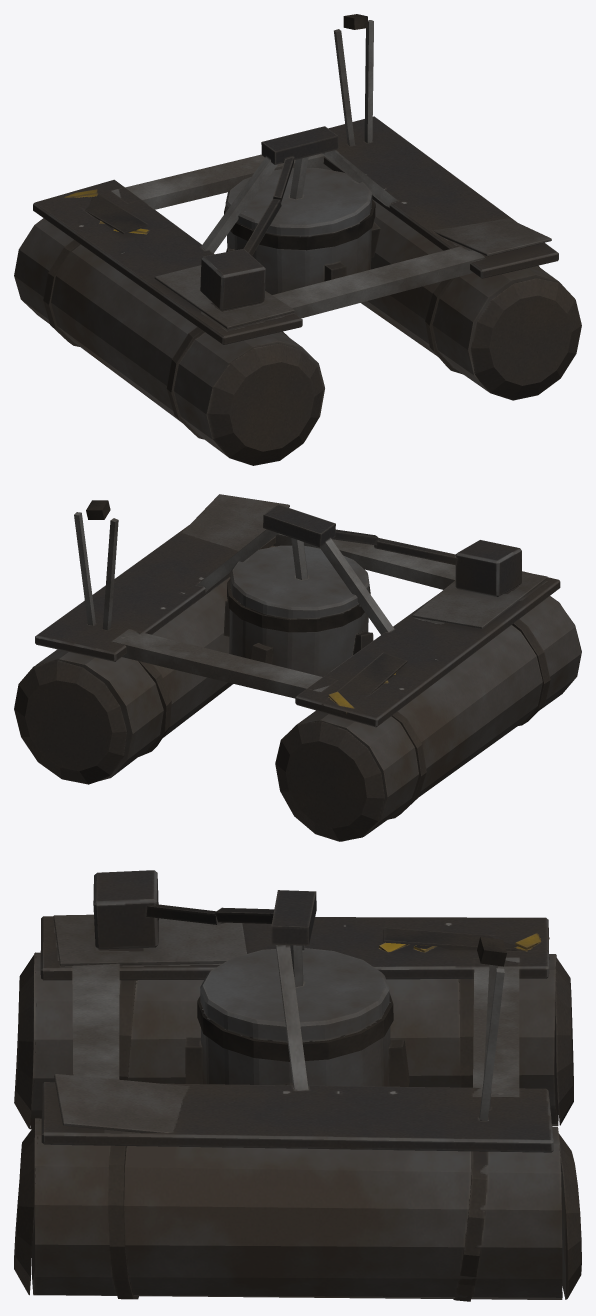
The model's file is chs_listener_wreck.fbx.
The picture shows the model from 3 angles, top to bottom: view 1: azimuth 30°, elevation 25°; view 2: azimuth 150°, elevation 25°; view 3: azimuth 270°, elevation 25°; orthographic projection. The views are drawn at different scales.
Parts seen in each view (by area): view 1: base_bar, drum_bar; view 2: base_bar, drum_bar; view 3: base_bar, drum_bar.
Part boxes in pixels (x1,y1,x2,y2): base_bar: (14,14,581,465); drum_bar: (224,157,380,294); base_bar: (14,494,581,841); drum_bar: (223,538,373,676); base_bar: (14,870,581,1301); drum_bar: (185,945,409,1086).
Bounding box in the file's own units: 758 × 595 × 733.
2 materials, 2 textured.
